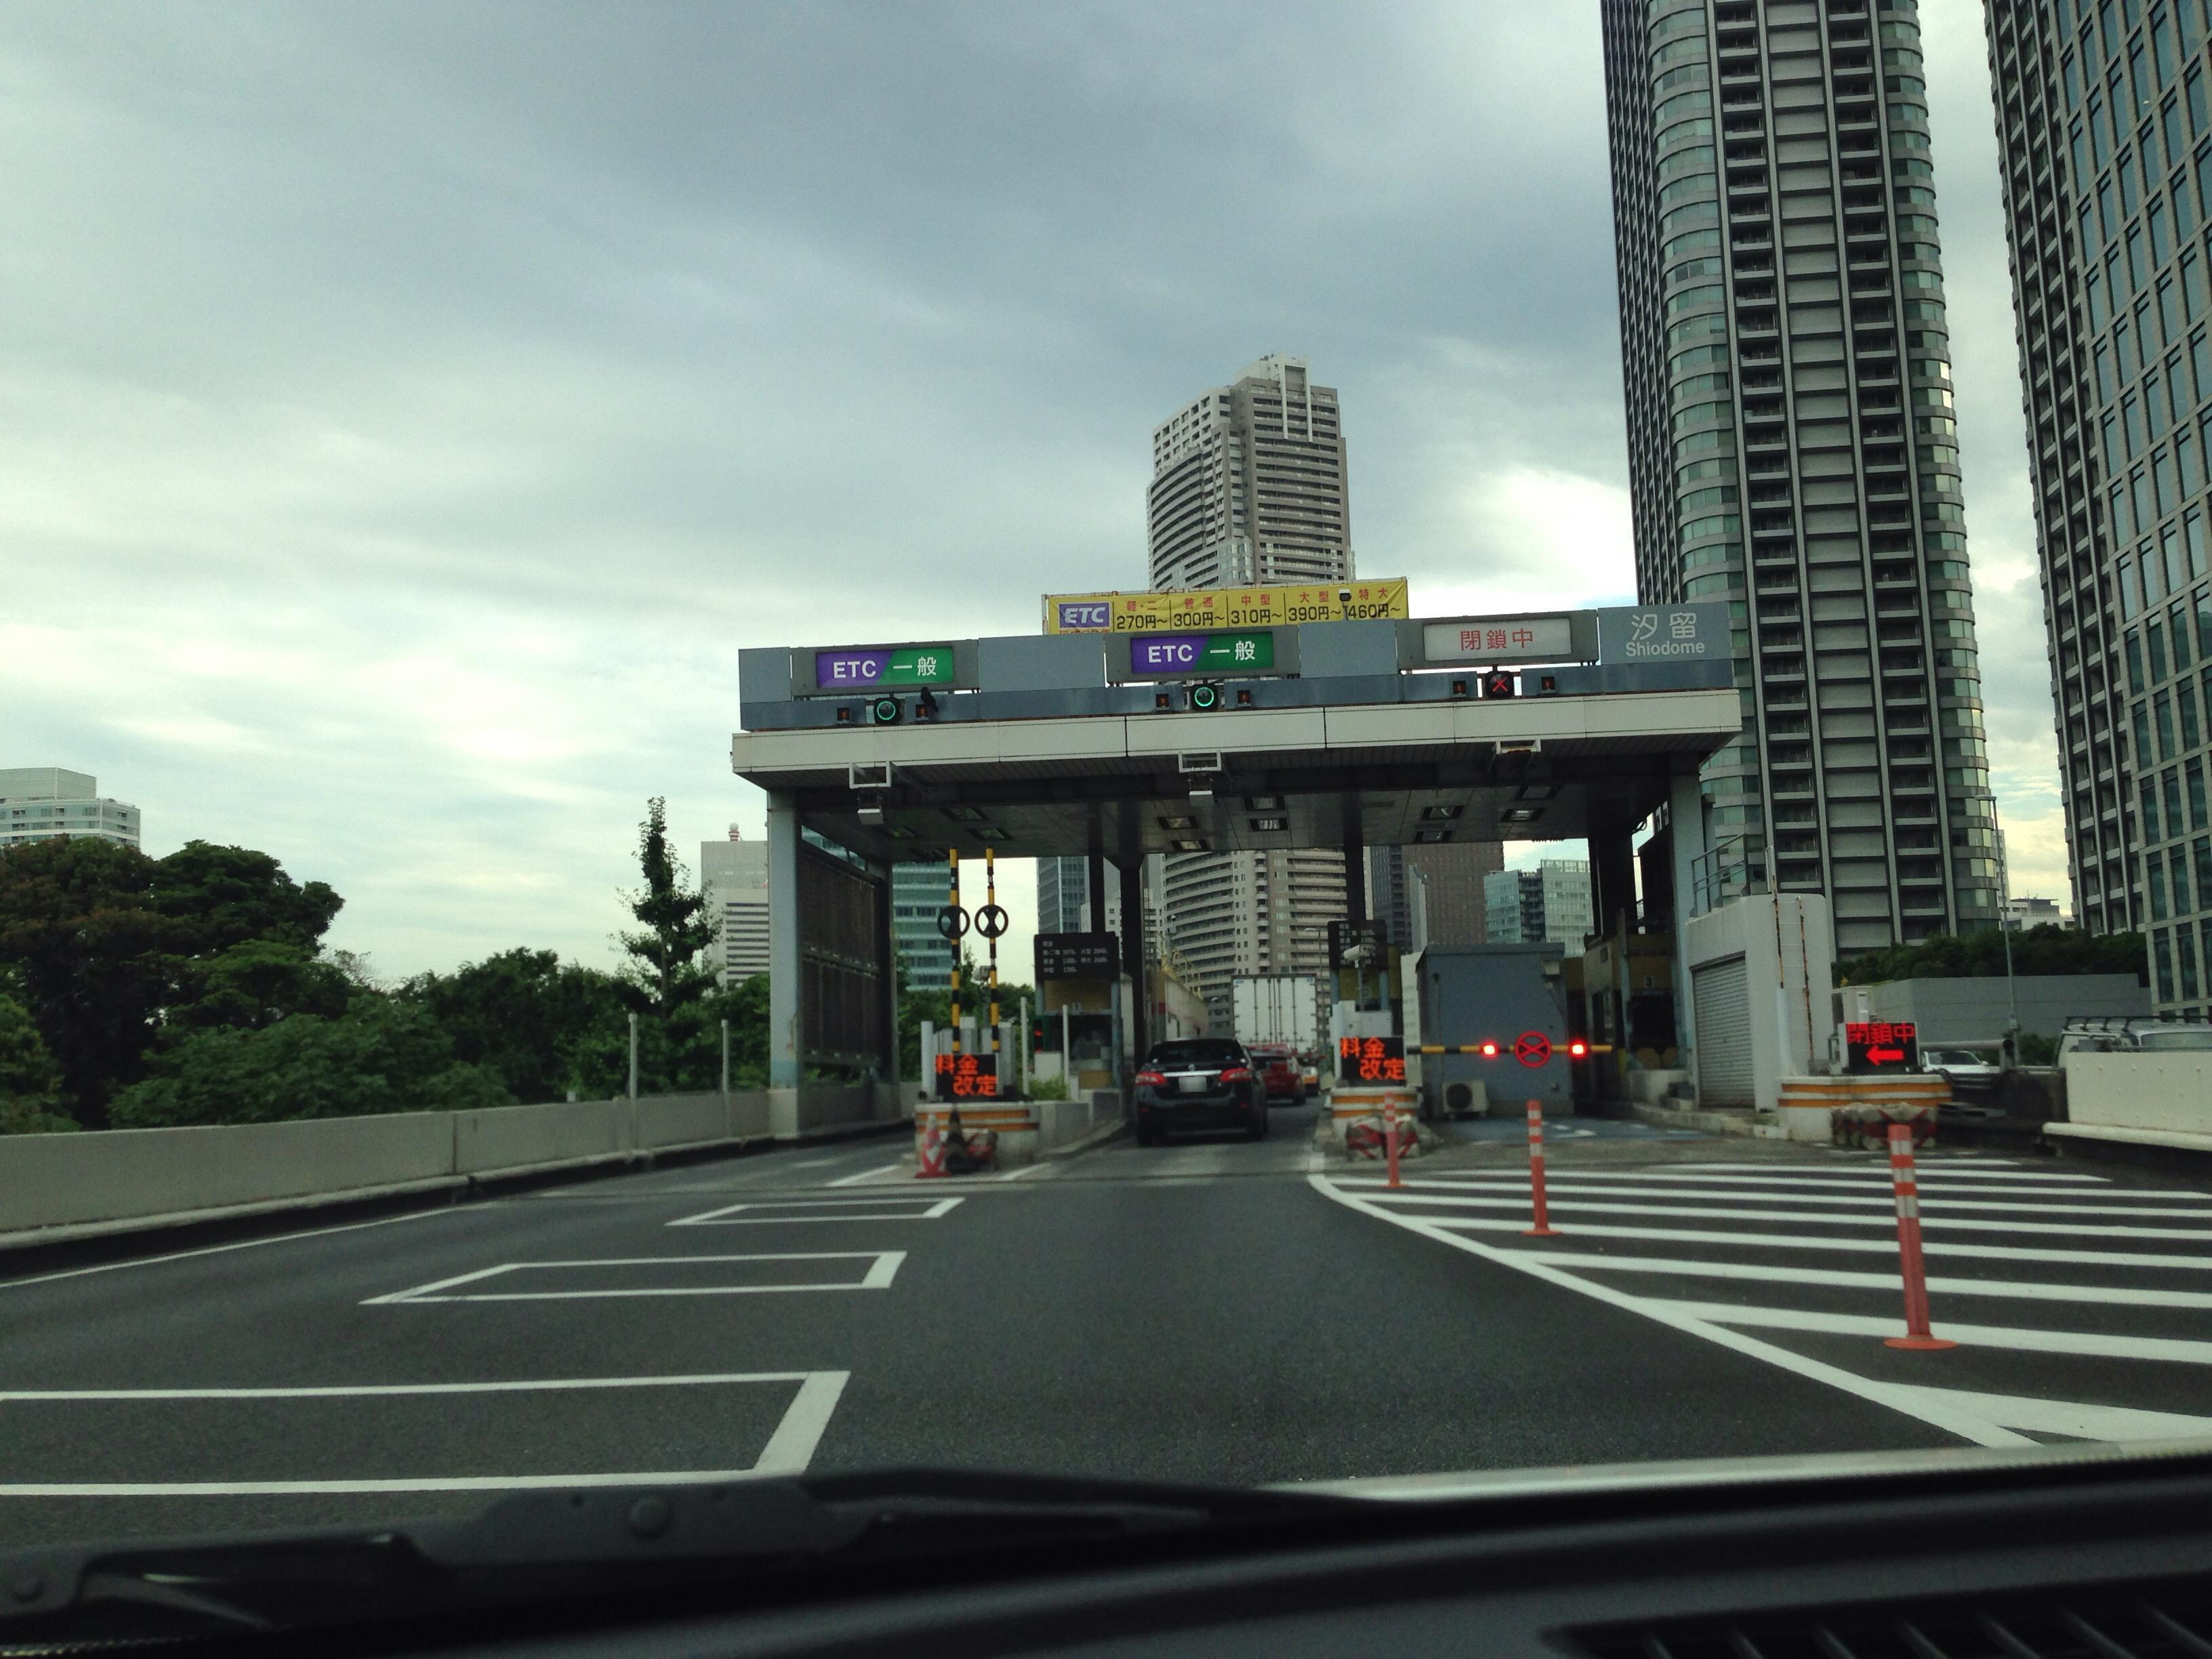vinyl banner: (1017, 558, 1421, 636)
